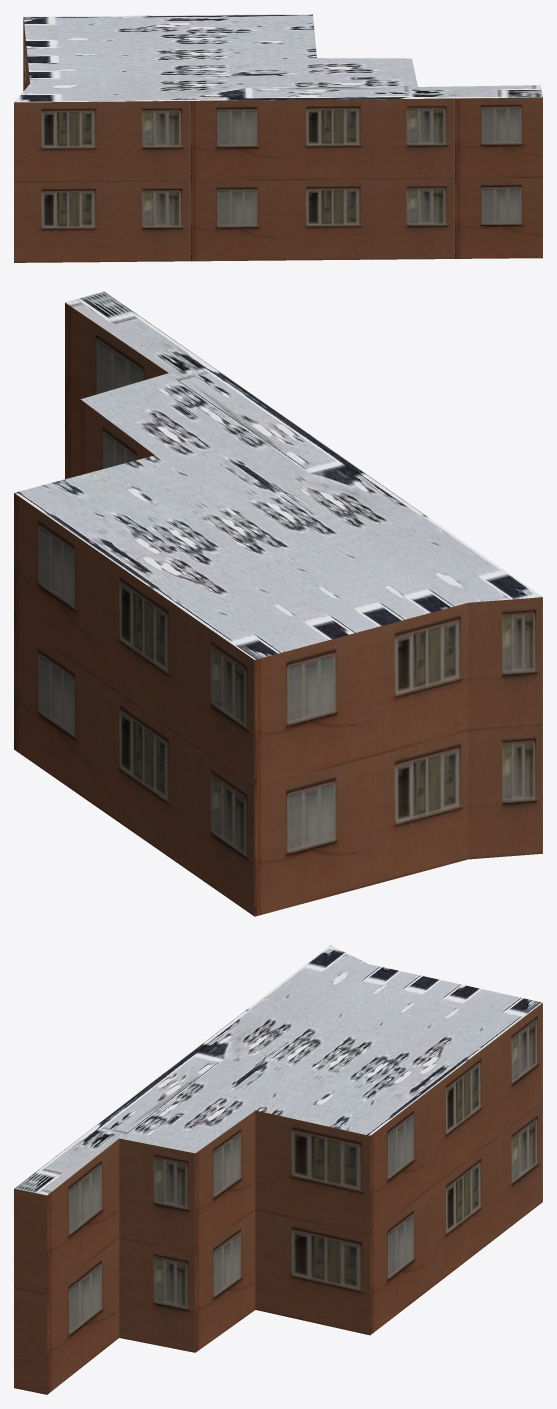
Rendered from ResTex__3805.fbx.
3 views of the same model, one above another, from view 1: azimuth 30°, elevation 25°; view 2: azimuth 150°, elevation 25°; view 3: azimuth 270°, elevation 25° (orthographic). The views are drawn at different scales.
Visible parts, largest first — view 1: CityEngineMaterial_20_m, CityEngineMaterial_4_m; view 2: CityEngineMaterial_20_m, CityEngineMaterial_4_m; view 3: CityEngineMaterial_20_m, CityEngineMaterial_4_m.
Boxes of the visible parts, bbox=[...] form: CityEngineMaterial_20_m: bbox=[14, 17, 542, 262]; CityEngineMaterial_4_m: bbox=[14, 14, 542, 102]; CityEngineMaterial_20_m: bbox=[14, 302, 542, 916]; CityEngineMaterial_4_m: bbox=[14, 291, 542, 659]; CityEngineMaterial_20_m: bbox=[14, 1003, 542, 1394]; CityEngineMaterial_4_m: bbox=[14, 945, 542, 1195].
Bounding box in the file's own units: 16.16 × 6 × 14.42.
2 materials, 2 textured.
